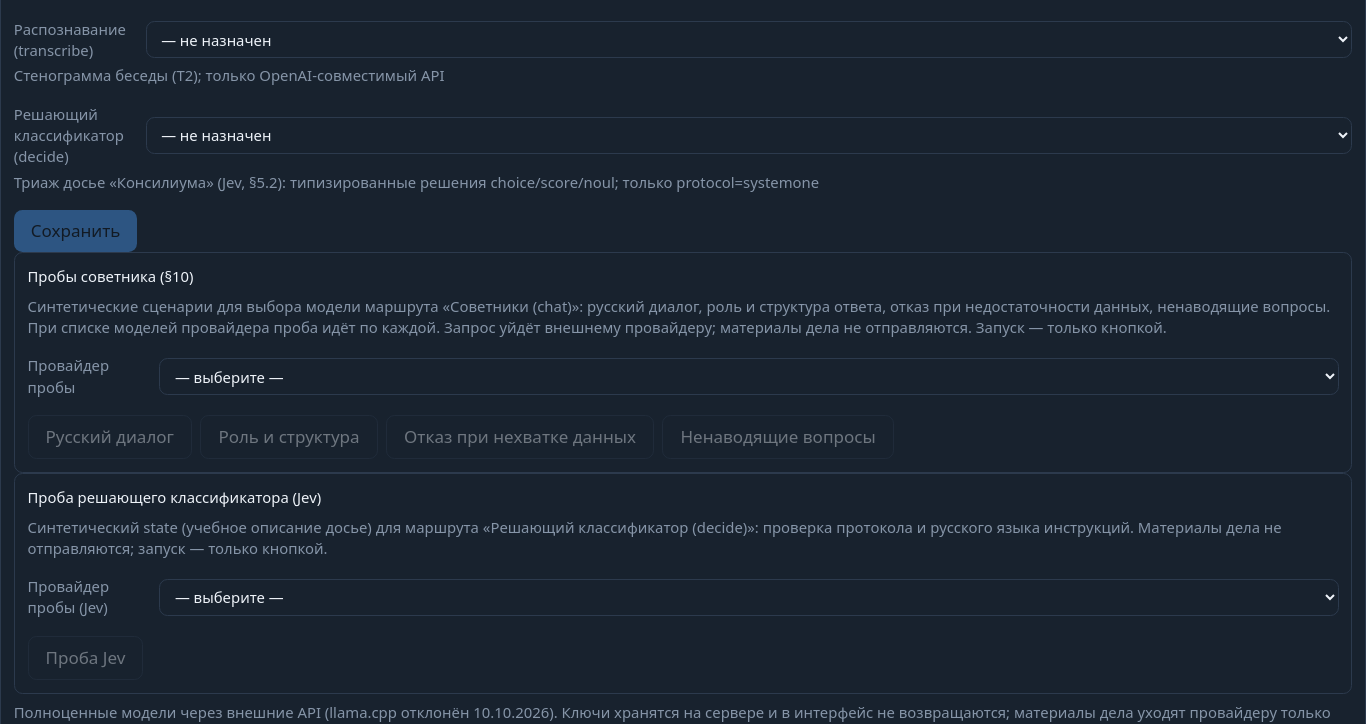
панель «Модельный роутер ИИ» › пробы советника (§10): сценарий шлётся кнопкой и показывает ответ с задержкой
(page scrolled)
Select "Полная модель" in the dropdown labelled "Провайдер пробы": (749, 376) [159,358,1339,395]
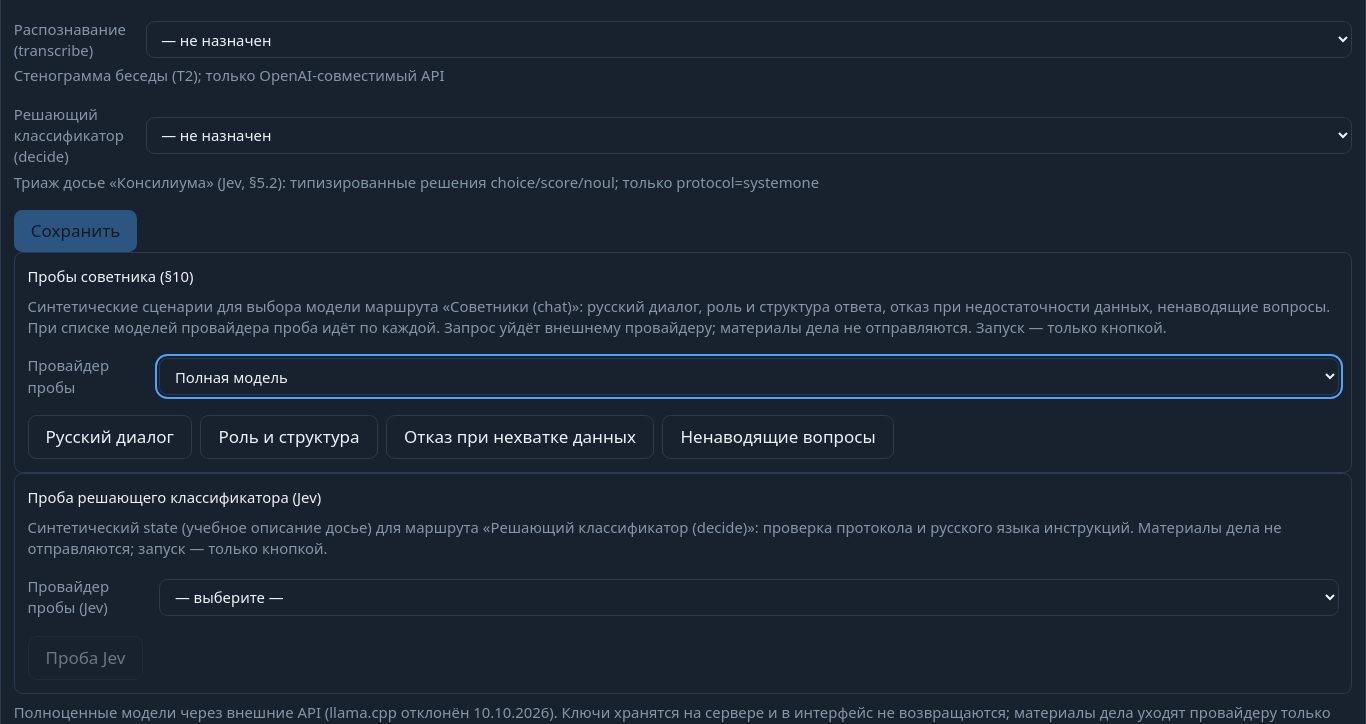
Click the button "Роль и структура": (289, 437) [200,415,378,459]
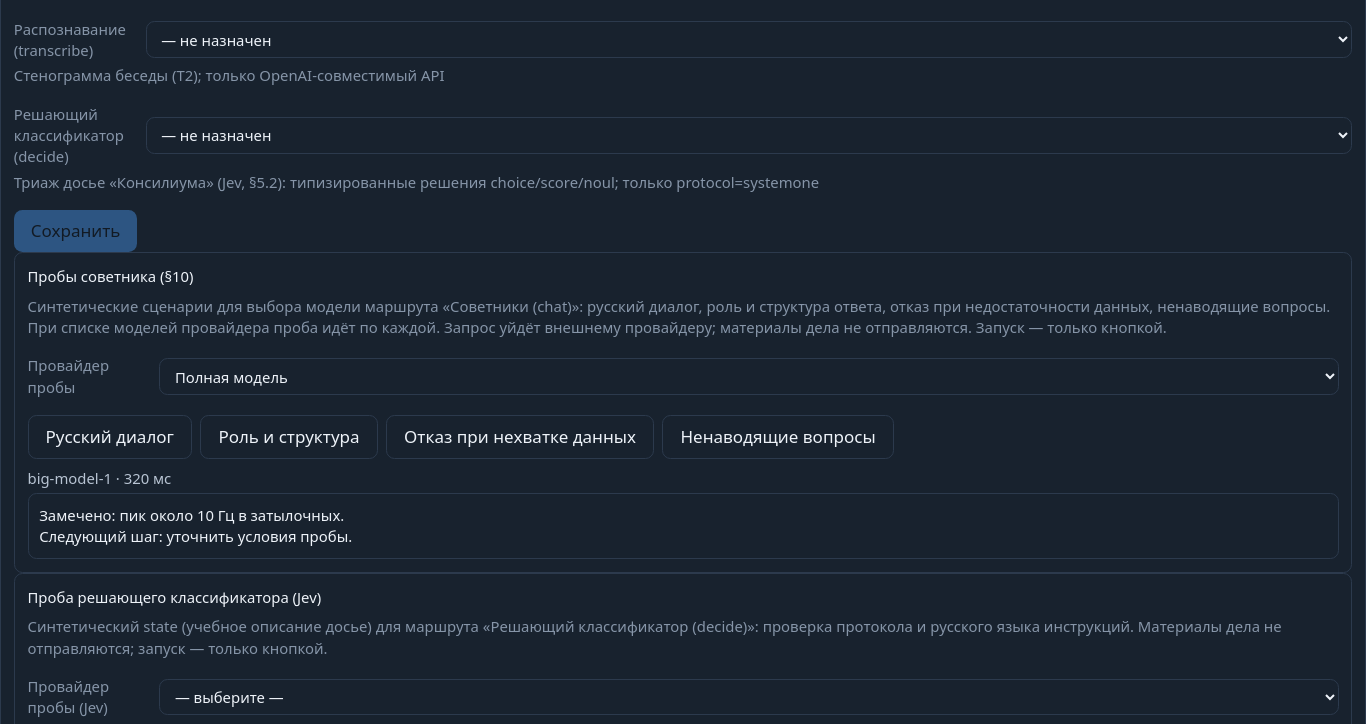
Expected: the text "Замечено: пик около 10 Гц" is shown, [39,505,352,546]
Expected: the text "big-model-1 · 320 мс" is shown, [28,468,171,488]
